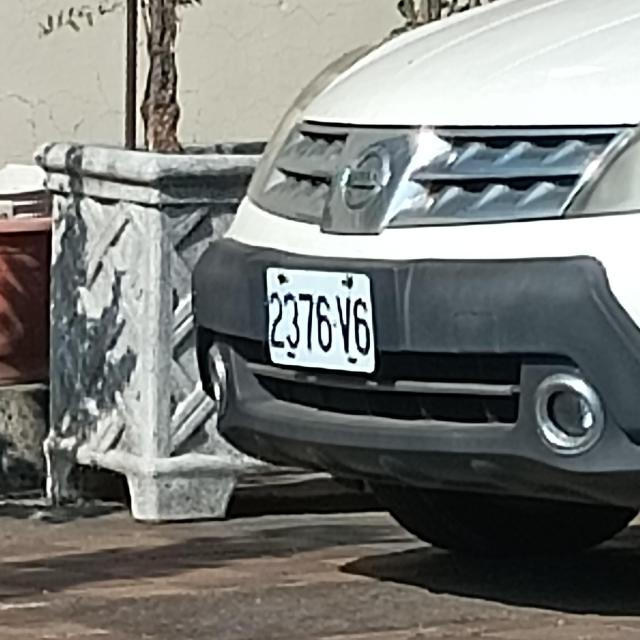W: (268, 267, 374, 372)
